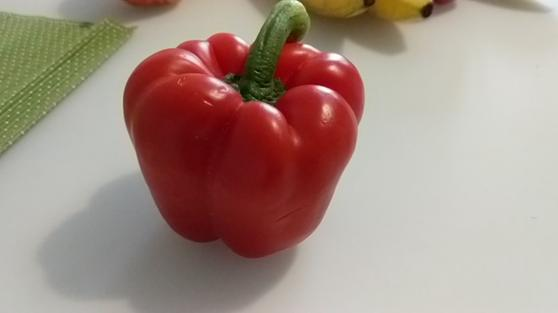pepper: (124, 1, 377, 258)
